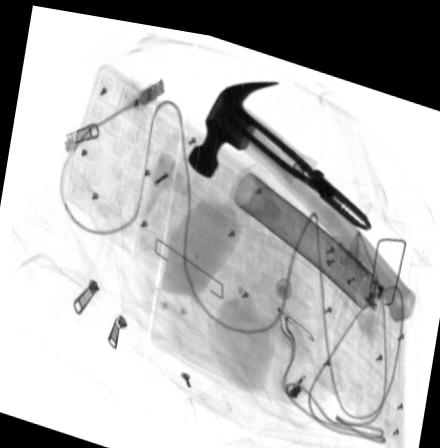Hammer: (185, 70, 415, 310)
Pliers: (234, 96, 372, 220)
